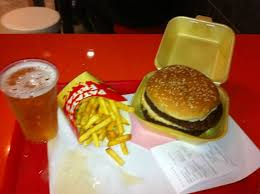hamburger: (141, 63, 224, 136)
